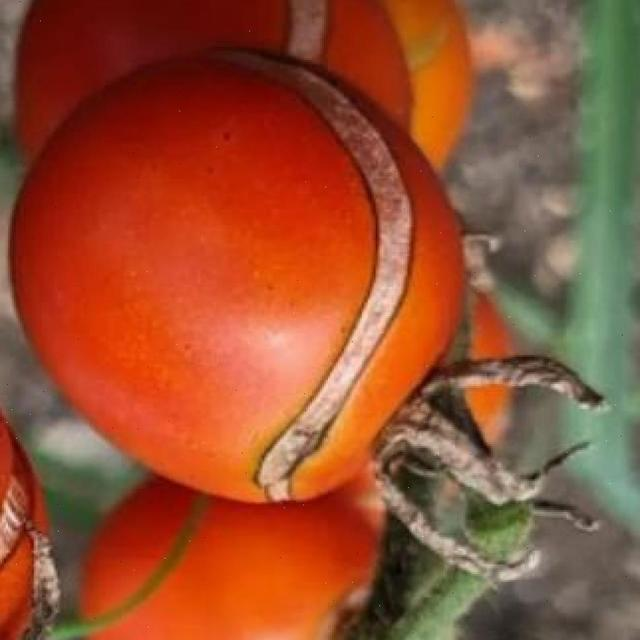Cracking Fruit: (10, 28, 207, 348)
